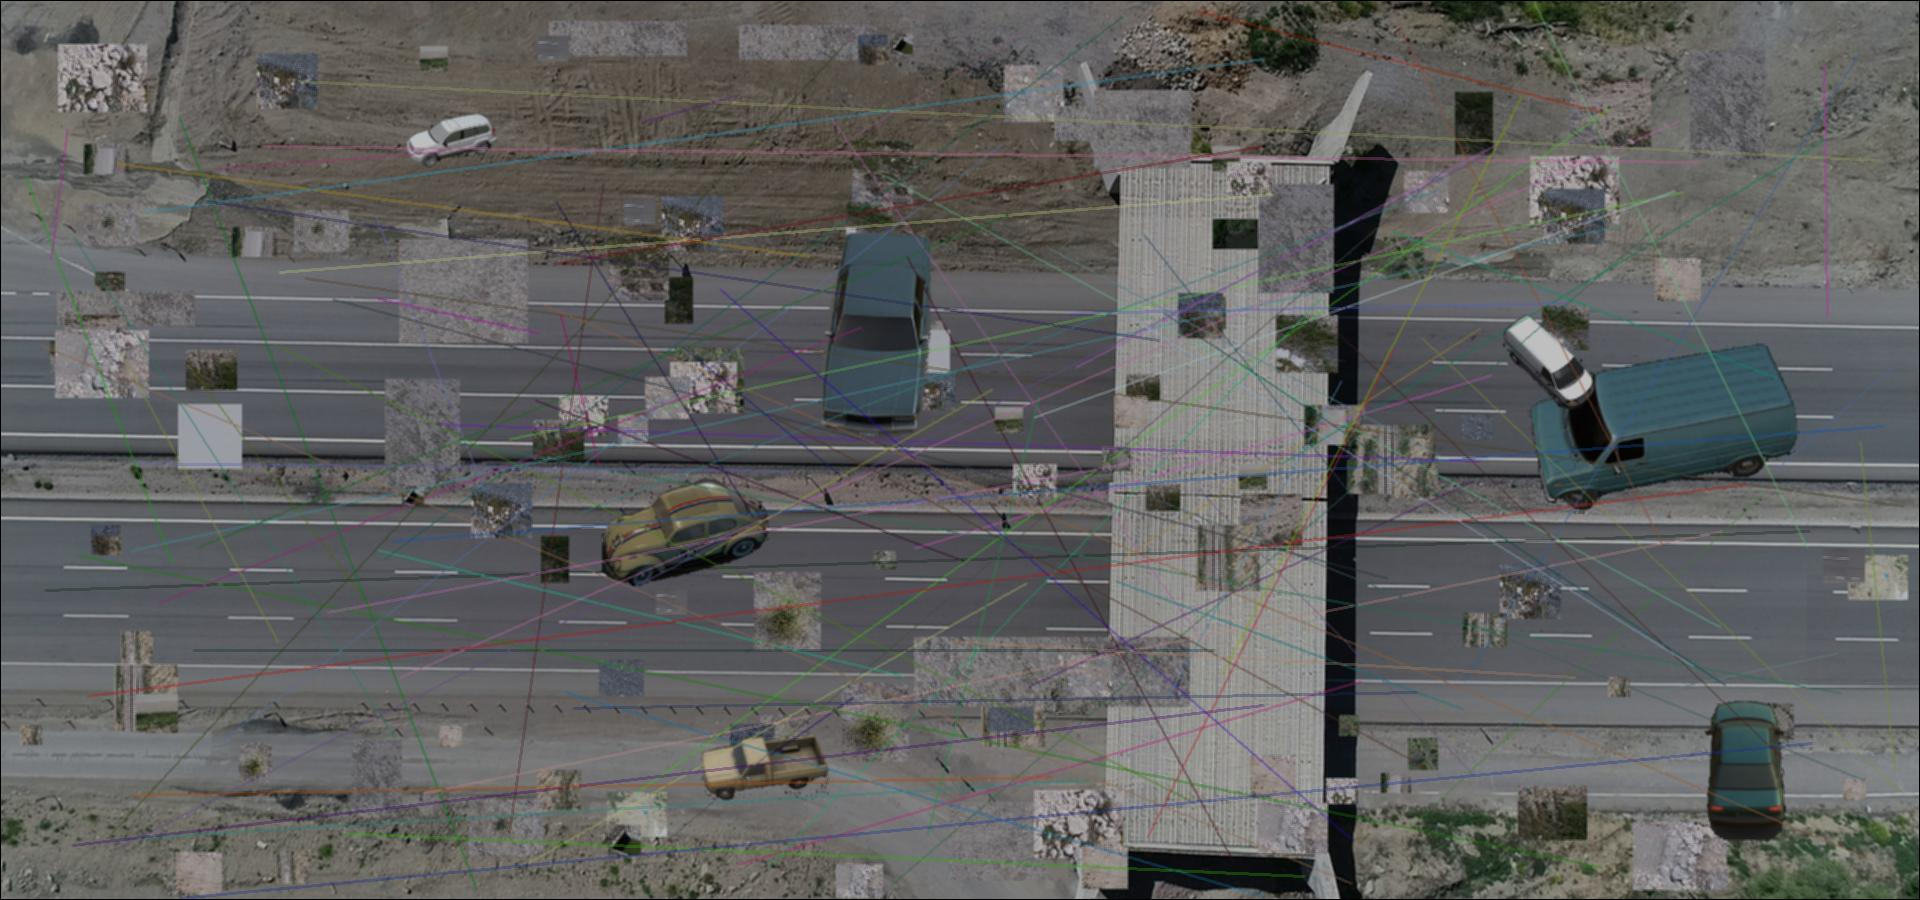arac: (1526, 340, 1799, 516), (822, 230, 938, 440), (602, 475, 769, 587), (1697, 697, 1791, 840), (1502, 312, 1596, 409), (698, 732, 829, 801), (407, 111, 497, 169)
